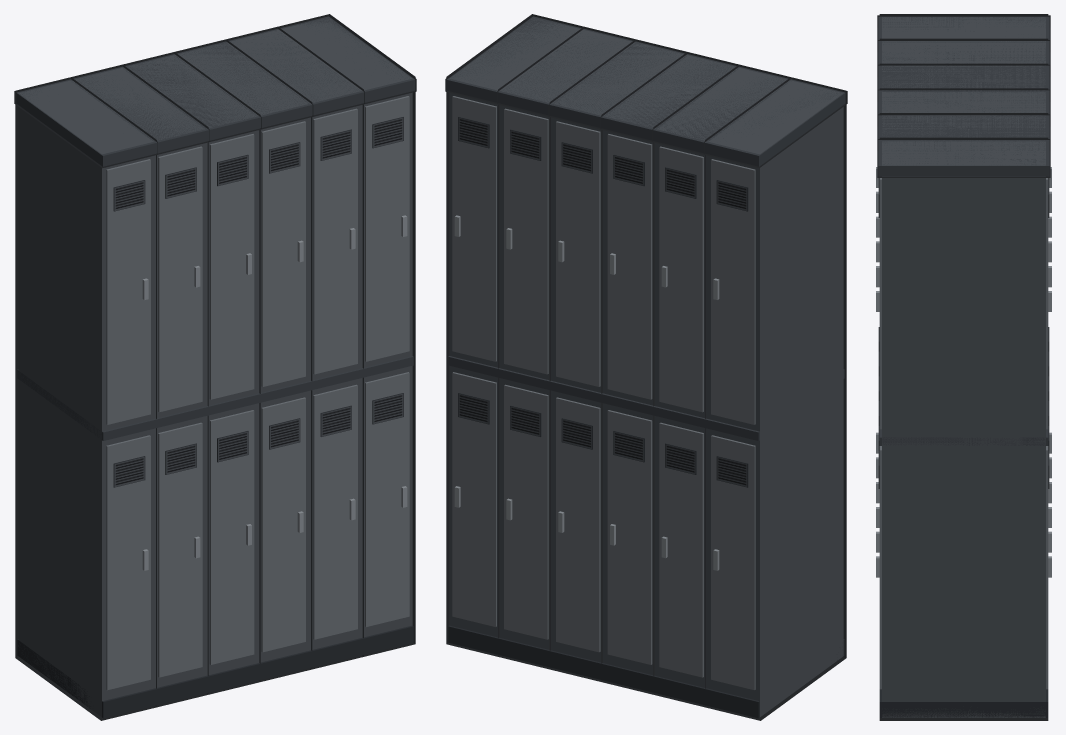
File: SM_Barrier_3m.glb
3 views of the same model, side by side, from view 1: azimuth 30°, elevation 25°; view 2: azimuth 150°, elevation 25°; view 3: azimuth 270°, elevation 25° (orthographic).
Parts seen in each view (by area): view 1: SM_Barrier_3m, SM_Barrier_3m_Outline; view 2: SM_Barrier_3m, SM_Barrier_3m_Outline; view 3: SM_Barrier_3m, SM_Barrier_3m_Outline.
Boxes of the visible parts, x1=… form: SM_Barrier_3m: x1=16, y1=16, x2=415, y2=718; SM_Barrier_3m_Outline: x1=14, y1=14, x2=416, y2=720; SM_Barrier_3m: x1=446, y1=16, x2=845, y2=718; SM_Barrier_3m_Outline: x1=445, y1=14, x2=847, y2=720; SM_Barrier_3m: x1=876, y1=16, x2=1051, y2=717; SM_Barrier_3m_Outline: x1=877, y1=14, x2=1050, y2=720.
Size of the model in its own units: 3.04 by 5.24 by 1.5.
2 materials, 1 textured.
